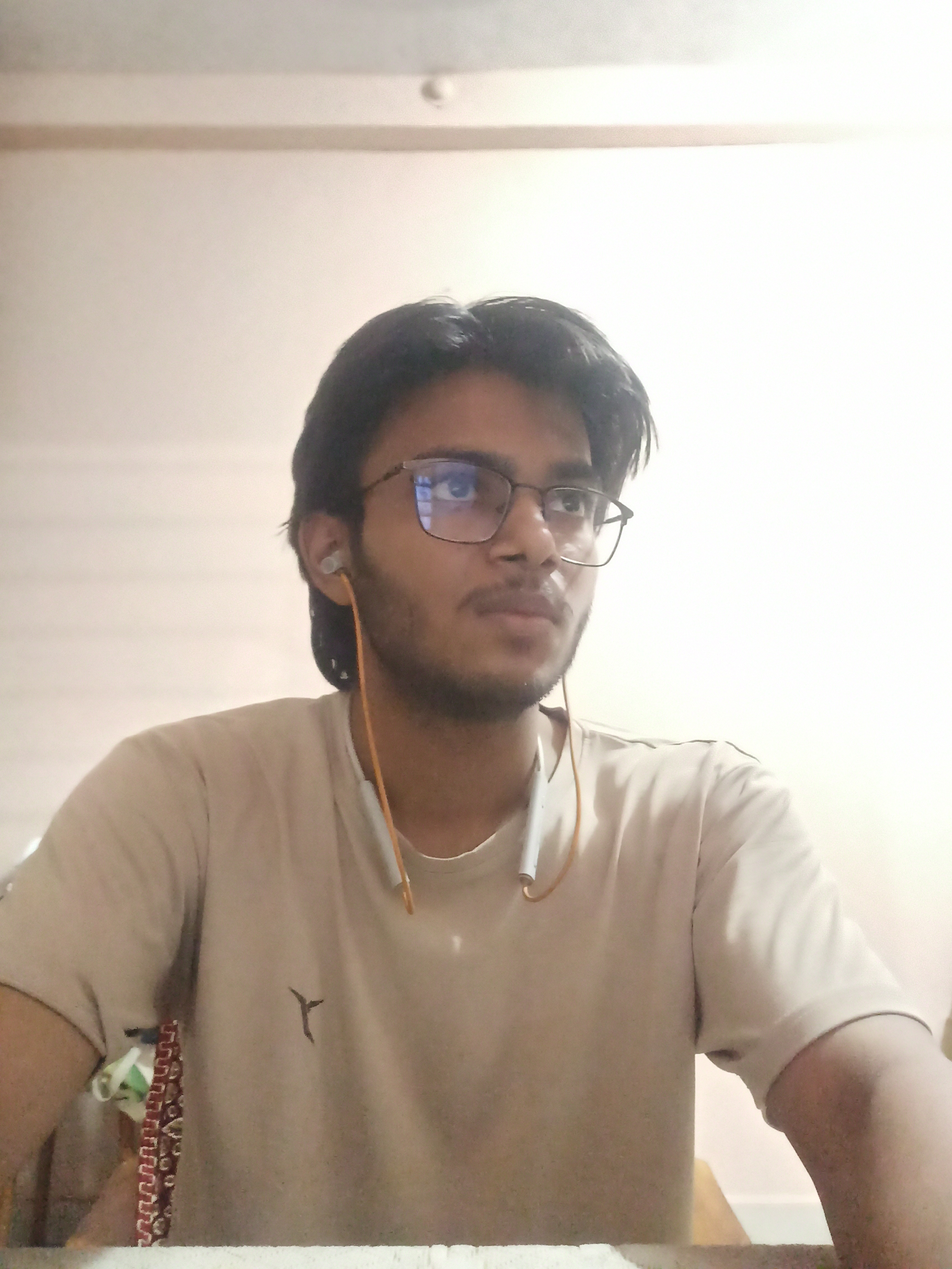distracted: (297, 261, 658, 754)
